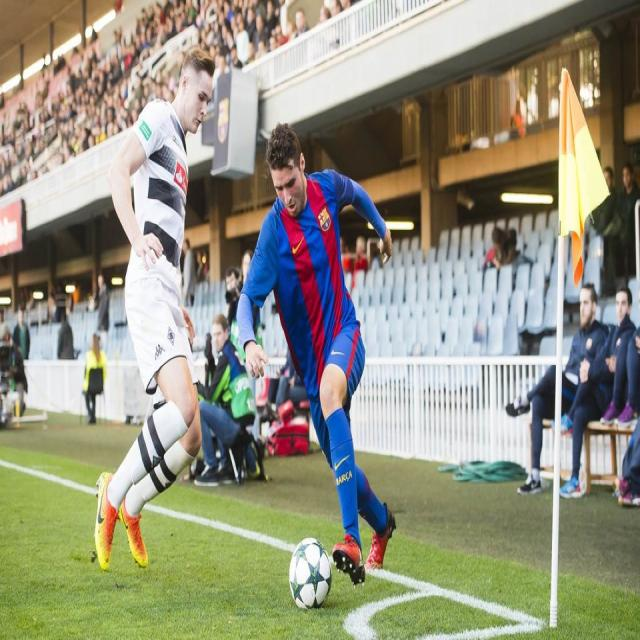body: (235, 118, 398, 588), (91, 45, 218, 575), (0, 0, 159, 197), (504, 281, 613, 500), (550, 284, 639, 502), (161, 1, 357, 97), (194, 309, 256, 485), (598, 323, 640, 510), (260, 340, 308, 448), (0, 325, 39, 434), (471, 225, 529, 280), (594, 166, 616, 300), (616, 161, 640, 281), (230, 250, 262, 337), (81, 332, 107, 428), (224, 265, 244, 338), (95, 272, 110, 354), (180, 237, 197, 307), (508, 95, 530, 146), (350, 235, 369, 292), (12, 306, 31, 360), (370, 242, 402, 274), (56, 310, 75, 360), (334, 234, 349, 278), (195, 245, 208, 287), (62, 289, 74, 332), (14, 288, 36, 311), (46, 292, 61, 324), (85, 289, 96, 319)
